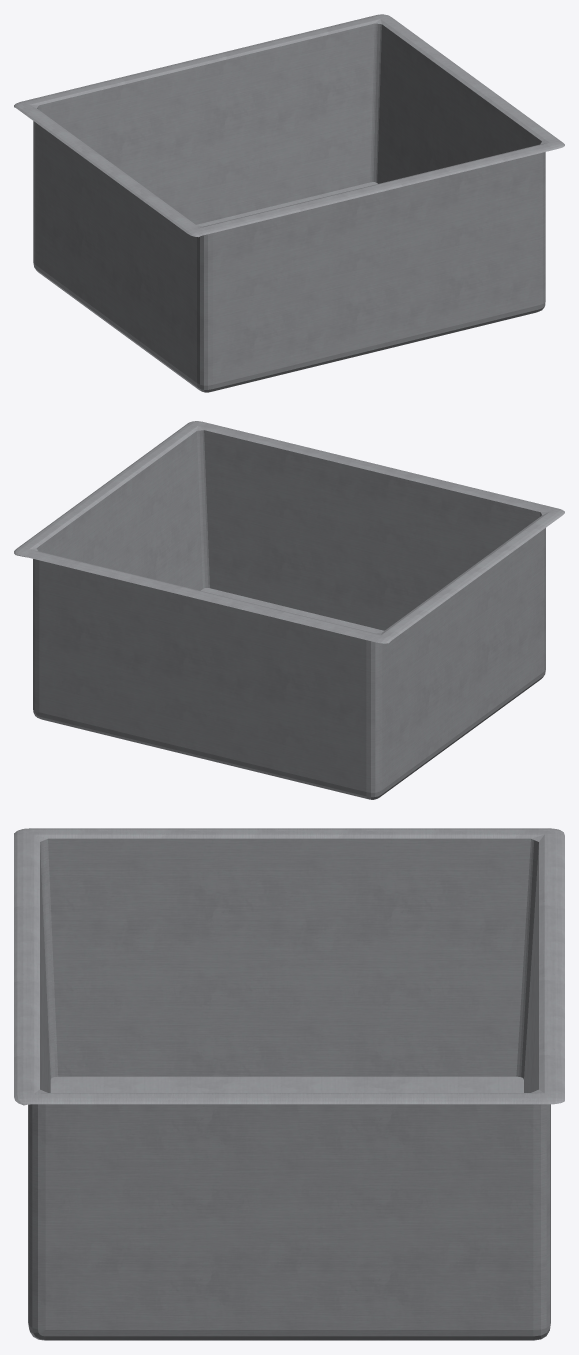
Rendered from SINK_20.glb.
3 renders of one model, top to bottom at view 1: azimuth 30°, elevation 25°; view 2: azimuth 150°, elevation 25°; view 3: azimuth 270°, elevation 25°, orthographic. The views are drawn at different scales.
Visible parts, largest first — view 1: KBX11028; view 2: KBX11028; view 3: KBX11028.
Part boxes in pixels (bbox=[...]): KBX11028: bbox=[14, 14, 564, 392]; KBX11028: bbox=[14, 421, 564, 799]; KBX11028: bbox=[14, 828, 564, 1340].
Bounding box in the file's own units: 508 × 218 × 428.
Materials: 2 (1 with a texture image).
